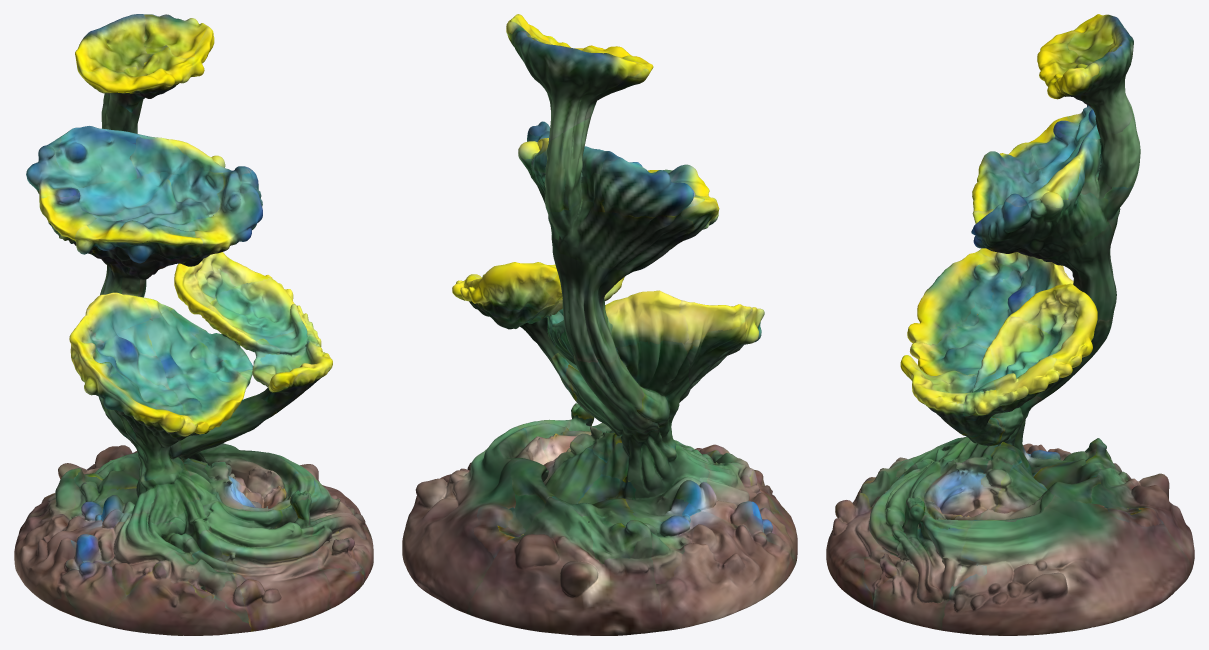
The model's file is baethanis.glb.
3 renders of one model, left to right at view 1: azimuth 30°, elevation 25°; view 2: azimuth 150°, elevation 25°; view 3: azimuth 270°, elevation 25°, orthographic. The views are drawn at different scales.
Size of the model in its own units: 1.23 by 1.9 by 1.23.
1 material, 1 textured.
